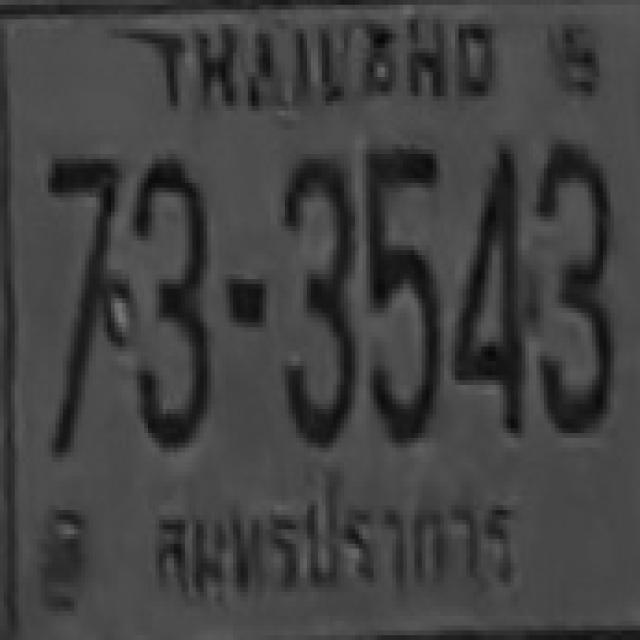3: (533, 140, 610, 428), (130, 157, 207, 445), (280, 154, 354, 443)
4: (451, 142, 522, 431)
5: (364, 149, 438, 438), (364, 144, 438, 318)
7: (44, 154, 122, 452), (44, 154, 122, 351), (46, 154, 120, 327)
SamutPrakan: (142, 474, 522, 603)
